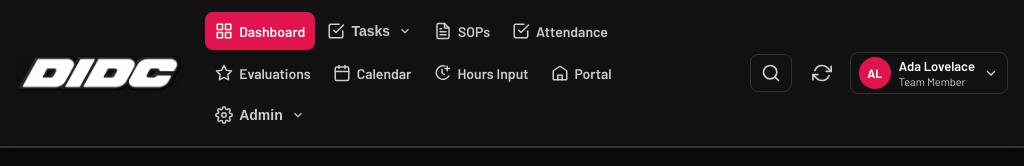
Test: desktop header › keeps the dropdown once a group has a choice in it
What coordinates should you click on to do the following:
click the button "Tasks"
I would click on:
 (370, 31)
Its box is [317,12,422,50].
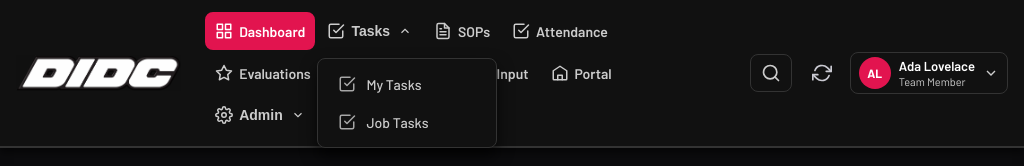
Expected: the button "Admin" is shown, [205,96,315,134]
Expected: the button "Tasks" is expanded, [317,12,422,50]
Expected: the link "Job Tasks" is shown, [338,113,428,131]
